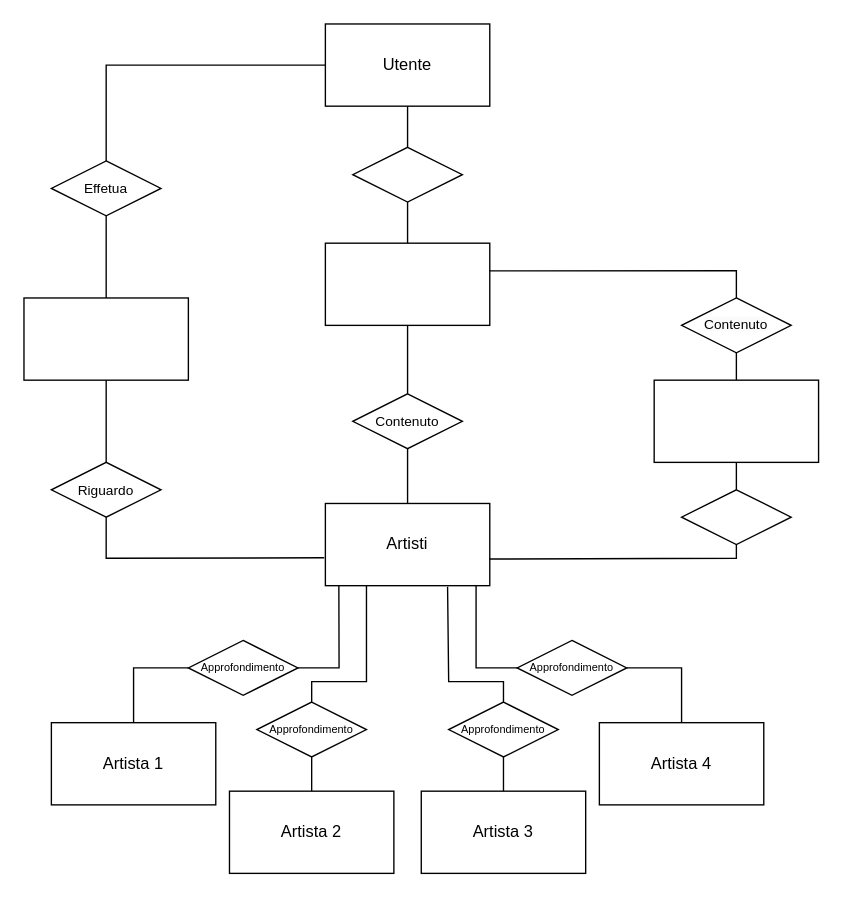
Image size: 843x897. Some labels were removed from this diagram. The shapes that lost their labels are listed below. From the top down, each one's centre as x and y in pixels, then its label:
the point at 406,174: Registrazione
the point at 407,283: Home
the point at 105,338: Ricerca
the point at 736,420: Opere
the point at 735,516: Collegato
